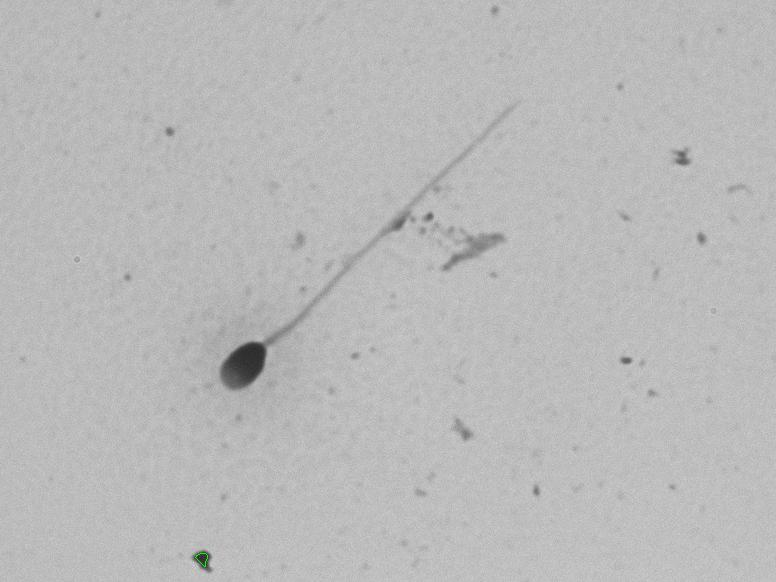Abnormal: (193, 79, 541, 427)
